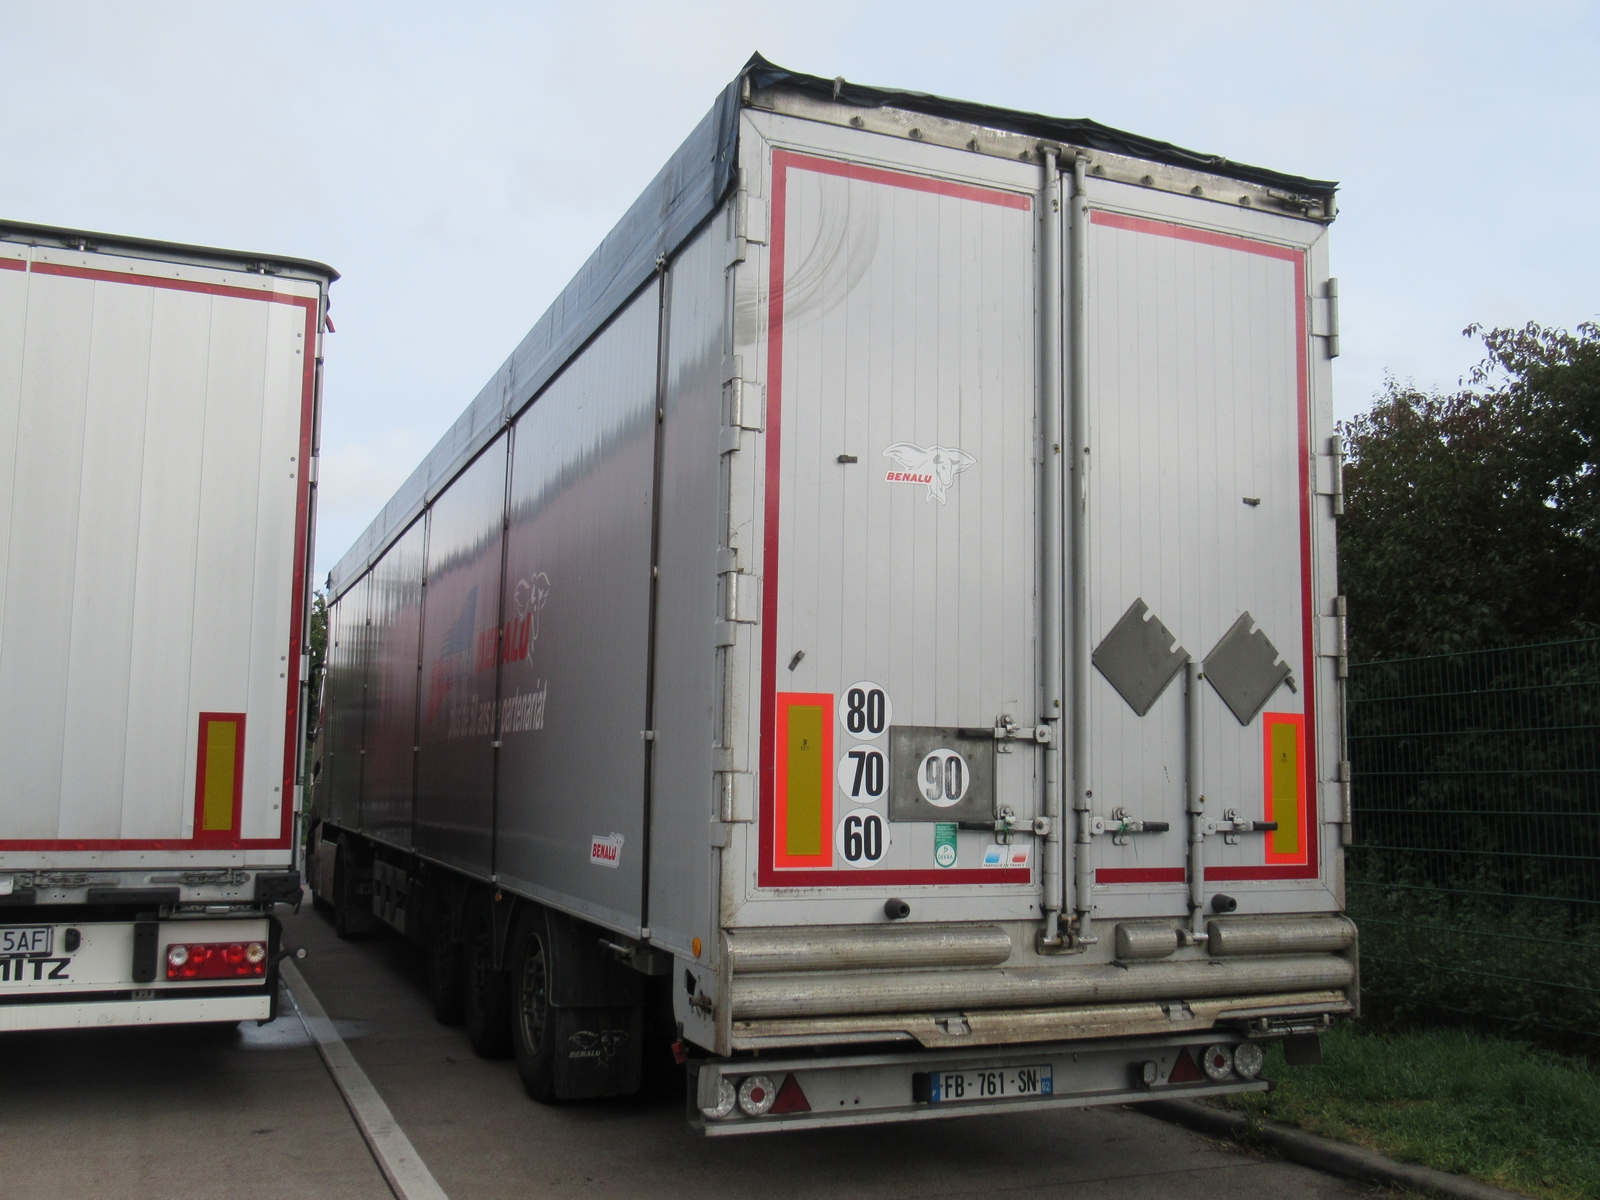licence plate: (922, 1061, 1064, 1107)
